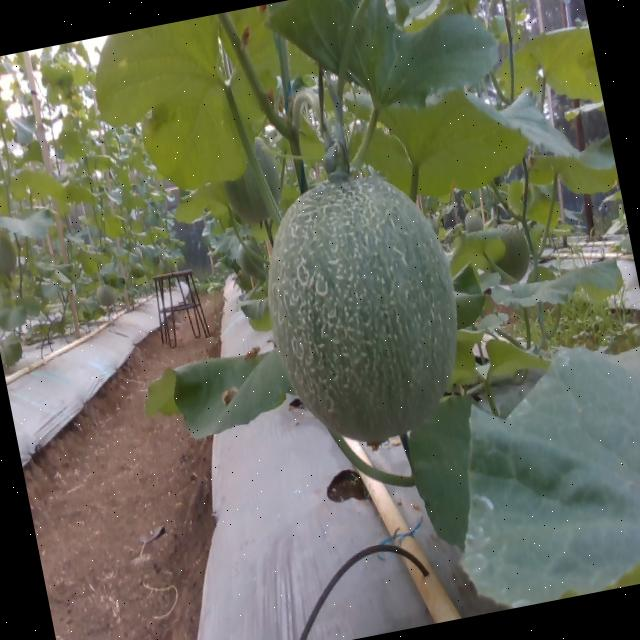melon: (269, 177, 458, 442)
